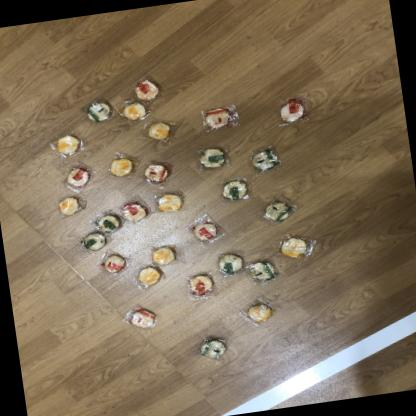green_setoshio: (194, 143, 231, 172), (260, 198, 296, 226), (193, 333, 228, 361), (248, 146, 282, 174), (81, 98, 114, 126), (245, 258, 278, 284), (215, 250, 247, 276), (220, 177, 251, 203), (92, 210, 124, 234), (78, 230, 109, 254)
red_setoshio: (272, 94, 312, 128), (184, 213, 224, 247), (198, 103, 239, 133), (60, 162, 94, 193), (126, 304, 160, 333), (138, 160, 174, 185), (184, 274, 212, 299), (120, 200, 148, 224), (132, 78, 162, 100), (100, 252, 128, 275)
yellow_setoshio: (238, 297, 278, 328), (276, 230, 314, 262), (47, 132, 86, 160), (140, 116, 178, 144), (105, 150, 140, 180), (116, 98, 149, 124), (134, 264, 164, 291), (53, 194, 84, 219), (153, 190, 183, 214), (148, 243, 176, 268)
